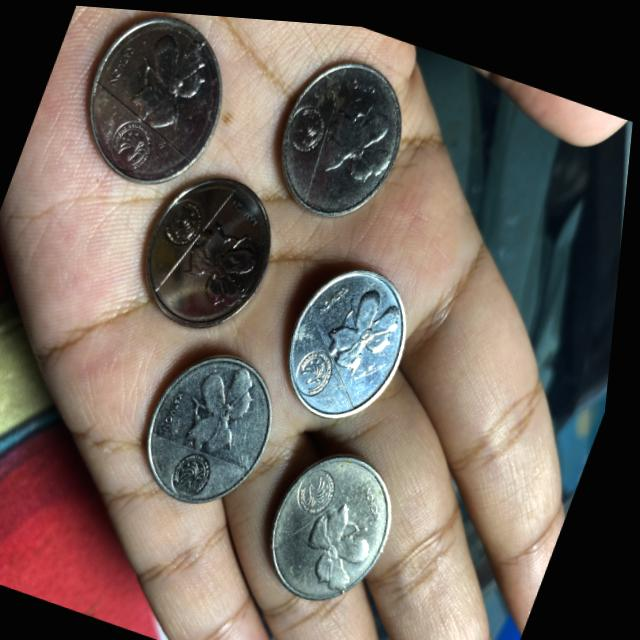25Cent_New_Back: (110, 12, 222, 135), (172, 351, 274, 462), (180, 208, 275, 317), (320, 275, 417, 379), (295, 488, 393, 590), (321, 85, 408, 194)
